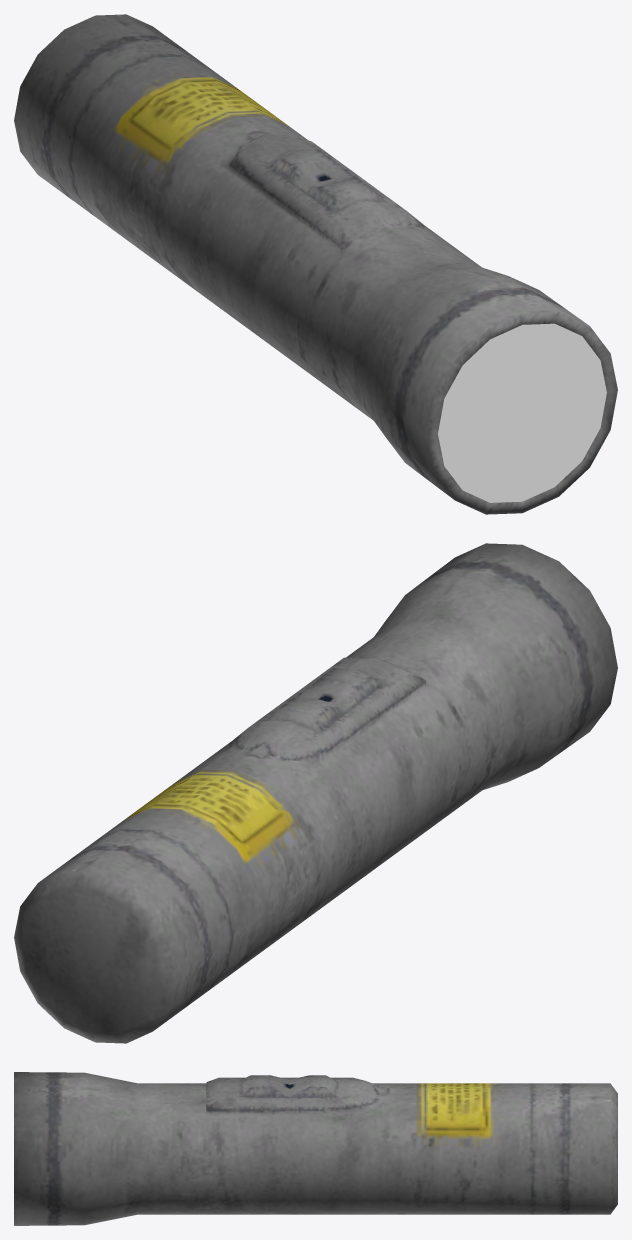
Rendered from sm35_056_flashlight01a.fbx.
3 renders of one model, top to bottom at view 1: azimuth 30°, elevation 25°; view 2: azimuth 150°, elevation 25°; view 3: azimuth 270°, elevation 25°, orthographic. The views are drawn at different scales.
Parts seen in each view (by area): view 1: LOD_1_Group_0_Sub_2__sm35_056_FlashLight01A_A_Mat, LOD_1_Group_0_Sub_1__sm35_056_FlashLight01A_B_Mat; view 2: LOD_1_Group_0_Sub_2__sm35_056_FlashLight01A_A_Mat; view 3: LOD_1_Group_0_Sub_2__sm35_056_FlashLight01A_A_Mat.
Boxes of the visible parts, box(x1,y1,x2,y2) form: LOD_1_Group_0_Sub_2__sm35_056_FlashLight01A_A_Mat: box(14, 14, 617, 514); LOD_1_Group_0_Sub_1__sm35_056_FlashLight01A_B_Mat: box(438, 323, 606, 502); LOD_1_Group_0_Sub_2__sm35_056_FlashLight01A_A_Mat: box(14, 543, 617, 1043); LOD_1_Group_0_Sub_2__sm35_056_FlashLight01A_A_Mat: box(14, 1072, 617, 1225).
Bounding box in the file's own units: 0.0579 × 0.0579 × 0.227.
